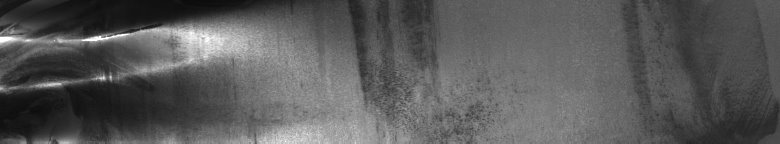ke: (4, 16, 197, 96)
